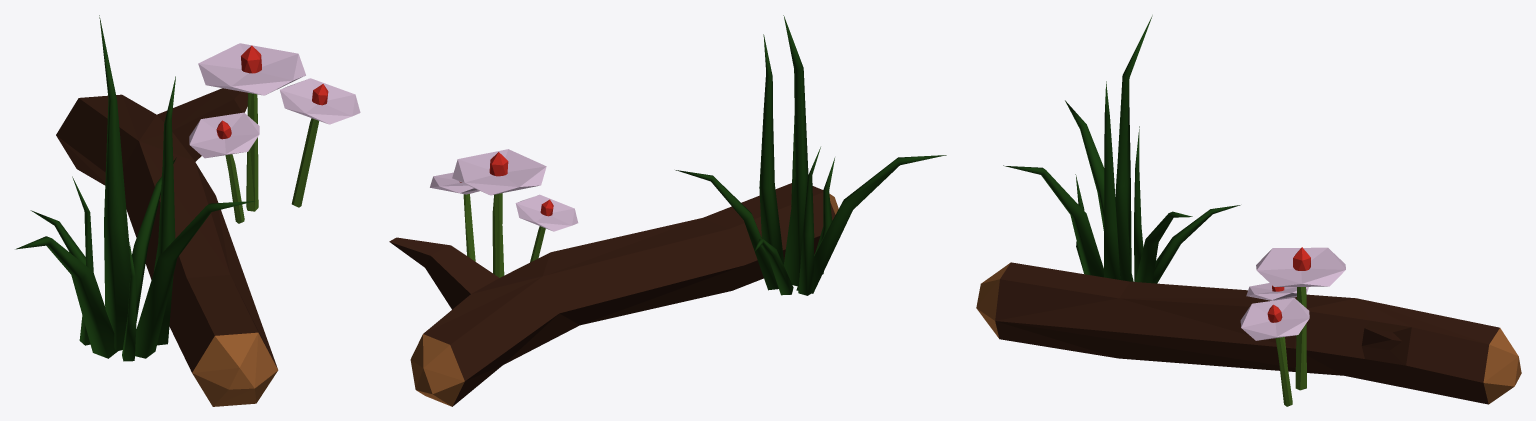
Rendered from branch2.obj.
3 renders of one model, left to right at view 1: azimuth 30°, elevation 25°; view 2: azimuth 150°, elevation 25°; view 3: azimuth 270°, elevation 25°, orthographic. The views are drawn at different scales.
Visible parts, largest first — view 1: Branch1.001_Cylinder.098; view 2: Branch1.001_Cylinder.098; view 3: Branch1.001_Cylinder.098.
Boxes of the visible parts, <box> form: Branch1.001_Cylinder.098: <box>15,15,360,406</box>; Branch1.001_Cylinder.098: <box>389,15,946,406</box>; Branch1.001_Cylinder.098: <box>976,15,1521,406</box>.
Size of the model in its own units: 1.28 by 0.9127 by 1.5.
